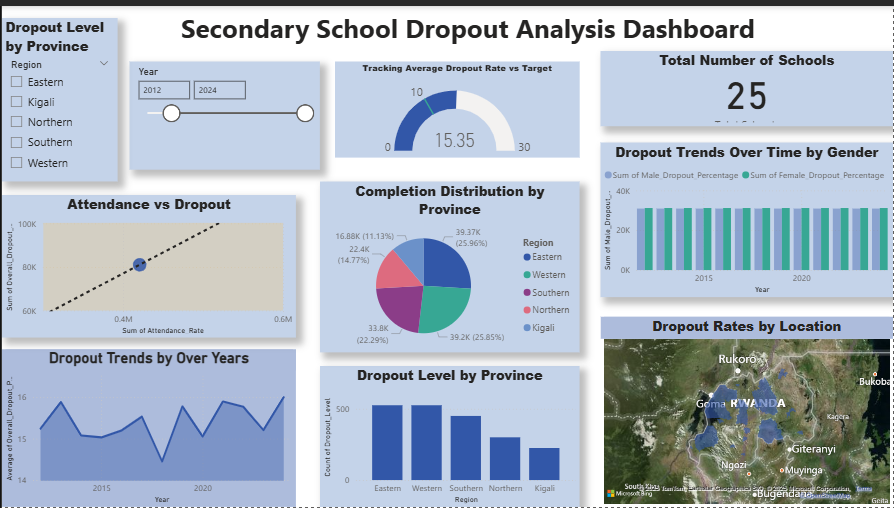

What the dashboard file says about the page in this screenshot:
{"tool":"powerbi","page":{"name":"Page 1","canvas":[1280,720],"ordinal":0},"visuals":[{"type":"lineChart","title":"Dropout Trends by Over Years","fields":{"Category":["processed_dropout_data.Year"],"Y":["Avg(processed_dropout_data.Overall_Dropout_Percentage)"]},"box":[0,493.2,422.1,226.1],"z":0},{"type":"filledMap","title":"Dropout Rates by Location","fields":{"Category":["processed_dropout_data.District"]},"box":[859.3,445.8,420,273.5],"z":1000},{"type":"textbox","box":[157.2,0,1033.8,64.6],"z":3000},{"type":"scatterChart","title":"Attendance vs Dropout","fields":{"X":["Sum(processed_dropout_data.Attendance_Rate)"],"Y":["Sum(processed_dropout_data.Overall_Dropout_Percentage)"],"Size":["Avg(processed_dropout_data.Avg_Household_Income_RWF)"]},"box":[0,271.4,422.1,204.6],"z":7001},{"type":"slicer","fields":{"Values":["processed_dropout_data.Year"]},"box":[183.1,79.7,273.5,155.1],"z":7002},{"type":"clusteredColumnChart","title":"Dropout Trends Over Time by Gender","fields":{"Category":["processed_dropout_data.Year"],"Y":["Sum(processed_dropout_dataA.Male_Dropout_Percentage)","Sum(processed_dropout_dataA.Female_Dropout_Percentage)"]},"box":[859.3,196,420,221.8],"z":7003},{"type":"slicer","title":"Dropout Level by Province","fields":{"Values":["processed_dropout_dataA.Region"]},"box":[0,17.2,165.8,234.8],"z":7004},{"type":"clusteredColumnChart","title":"Dropout Level by Province","fields":{"Y":["CountNonNull(processed_dropout_dataA.Dropout_Level)"],"Category":["processed_dropout_dataA.Region"]},"box":[456.6,516.9,372.6,202.4],"z":7005},{"type":"pieChart","title":"Completion Distribution by Province","fields":{"Y":["Sum(processed_dropout_dataA.Completion_Total)"],"Category":["processed_dropout_dataA.Region"]},"box":[456.6,252,372.6,245.5],"z":7006},{"type":"card","title":"Total Number of Schools","fields":{"Values":["processed_dropout_data.Total Schools"]},"box":[859.3,64.6,420,107.7],"z":7007},{"type":"gauge","title":"Tracking Average Dropout Rate vs Target","fields":{"Y":["processed_dropout_data.Avg_Dropout"],"MinValue":["processed_dropout_data.Gauge_Min"],"MaxValue":["processed_dropout_data.Gauge_Max"],"TargetValue":["processed_dropout_data.Dropout_Target"]},"box":[478.1,79.7,351.1,137.8],"z":7008}]}

Visuals, with their boxes in screenshot pixels (x1, y1, x2, y2), scaled from the page's 1280x720 canvas onto the 894x508 screenshot:
"Dropout Trends by Over Years" lineChart: (0, 348, 295, 507)
"Dropout Rates by Location" filledMap: (600, 315, 893, 507)
textbox: (110, 0, 832, 46)
"Attendance vs Dropout" scatterChart: (0, 191, 295, 336)
slicer - processed_dropout_data.Year: (128, 56, 319, 166)
"Dropout Trends Over Time by Gender" clusteredColumnChart: (600, 138, 893, 295)
"Dropout Level by Province" slicer: (0, 12, 116, 178)
"Dropout Level by Province" clusteredColumnChart: (319, 365, 579, 507)
"Completion Distribution by Province" pieChart: (319, 178, 579, 351)
"Total Number of Schools" card: (600, 46, 893, 122)
"Tracking Average Dropout Rate vs Target" gauge: (334, 56, 579, 153)
